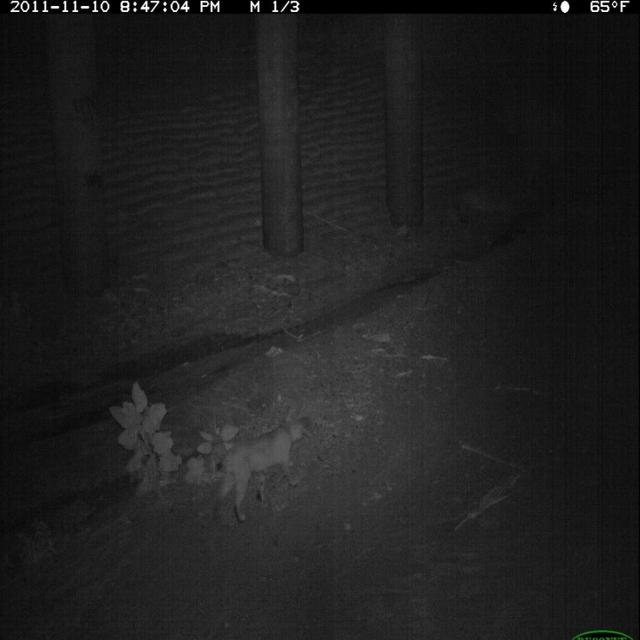bobcat: (208, 405, 311, 533)
